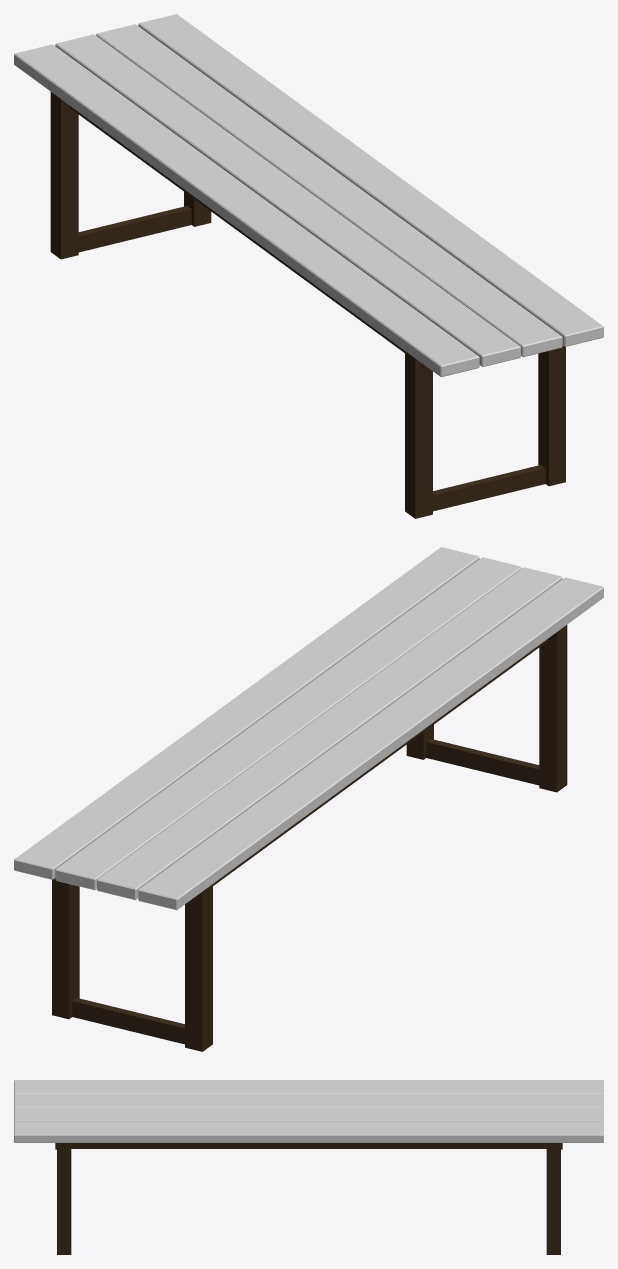
3 views of the same model, one above another, from view 1: azimuth 30°, elevation 25°; view 2: azimuth 150°, elevation 25°; view 3: azimuth 270°, elevation 25° (orthographic). The views are drawn at different scales.
Parts seen in each view (by area): view 1: B-07.1; view 2: B-07.1; view 3: B-07.1.
Part boxes in pixels (x1,y1,x2,y2): B-07.1: [14, 14, 603, 518]; B-07.1: [14, 547, 603, 1051]; B-07.1: [14, 1080, 603, 1254].
Size of the model in its own units: 43.5 by 44.94 by 196.
